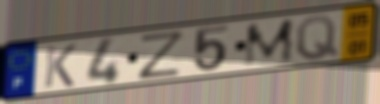4: (84, 36, 123, 87)
5: (193, 24, 233, 74)
K: (41, 42, 79, 90)
M: (242, 16, 297, 70)
Q: (294, 14, 341, 62)
Z: (137, 28, 189, 82)
